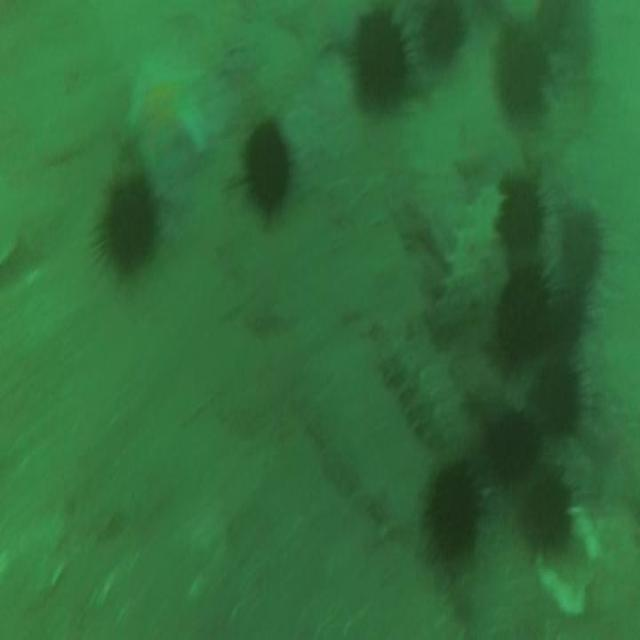echinus: (91, 155, 168, 289), (344, 5, 417, 123), (419, 450, 487, 576), (487, 16, 557, 134), (516, 453, 577, 562), (492, 258, 558, 357), (488, 161, 552, 258), (242, 109, 292, 229), (482, 396, 548, 476), (530, 348, 586, 439), (558, 193, 611, 289), (415, 0, 469, 76), (550, 278, 596, 357)
holothurian: (440, 163, 507, 319), (380, 340, 442, 449)
starfish: (124, 50, 208, 164)
